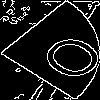O: (25, 25, 100, 85)
